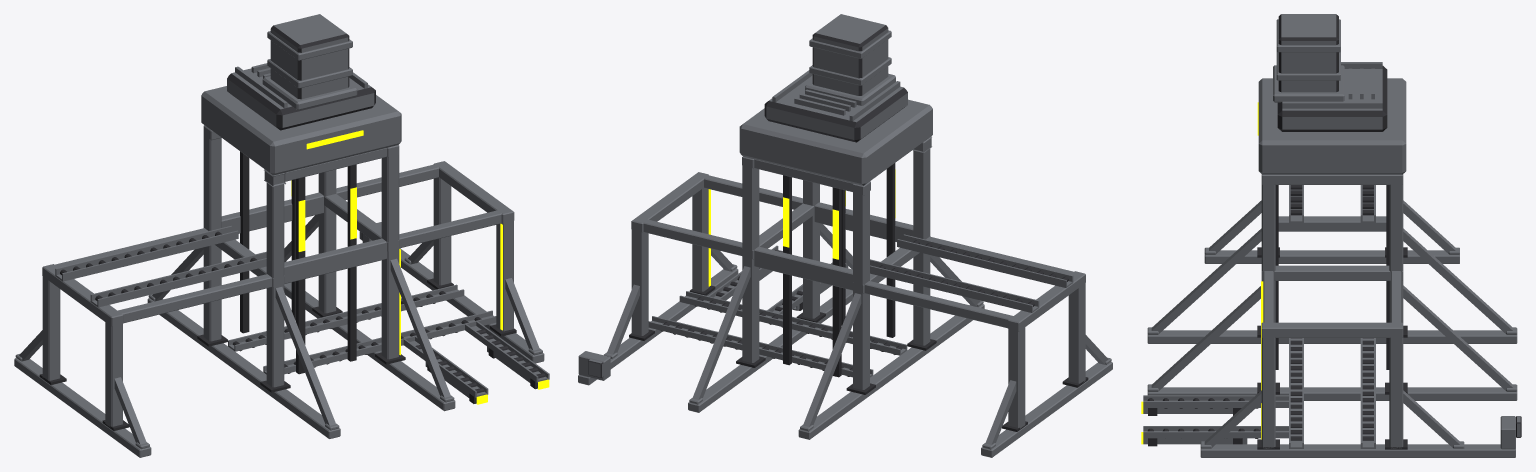
Rendered from LoaderS4.fbx.
3 views of the same model, side by side, from view 1: azimuth 30°, elevation 25°; view 2: azimuth 150°, elevation 25°; view 3: azimuth 270°, elevation 25° (orthographic). The views are drawn at different scales.
Visible parts, largest first — view 1: Frame, Mechanism, Front Rails; view 2: Frame, Mechanism; view 3: Frame, Mechanism, Front Rails.
Part boxes in pixels (box(x1,y1,x2,y2)): Frame: box(14, 125, 549, 457); Mechanism: box(201, 14, 401, 175); Front Rails: box(425, 346, 549, 404); Frame: box(578, 136, 1112, 457); Mechanism: box(739, 14, 932, 185); Frame: box(1143, 174, 1521, 457); Mechanism: box(1257, 14, 1406, 174); Front Rails: box(1141, 401, 1247, 444).
Size of the model in its own units: 5 by 4 by 4.02.
